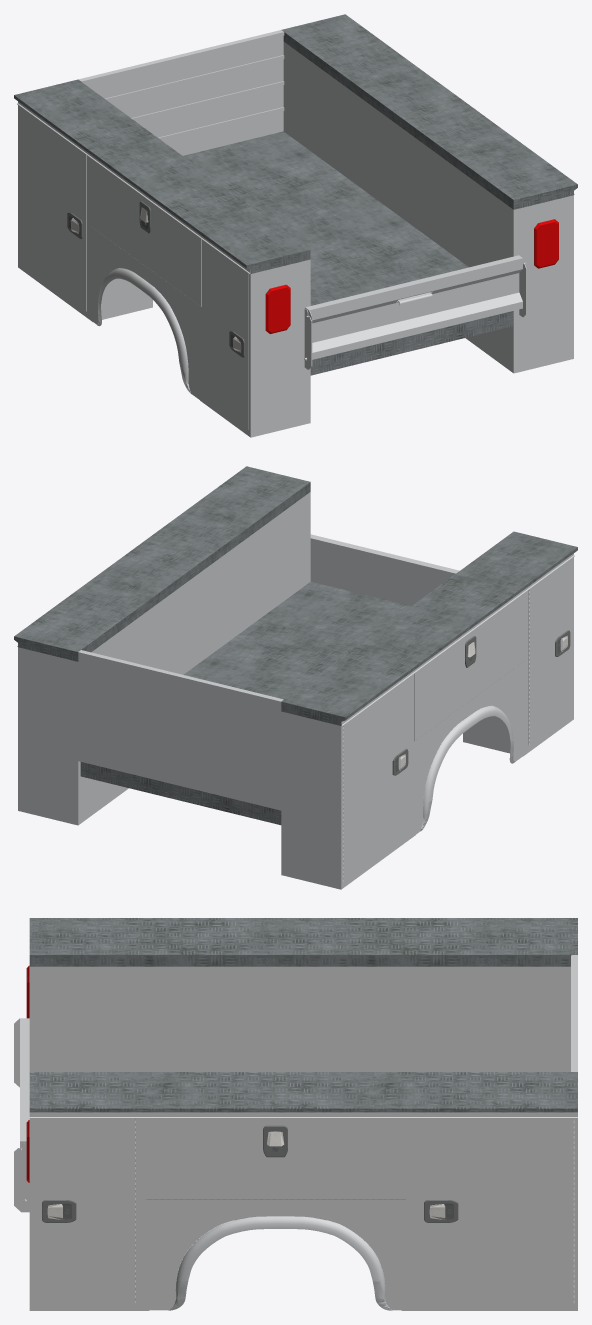
The model's file is RAM 2500HD CC 696j Body.glb.
3 views of the same model, one above another, from view 1: azimuth 30°, elevation 25°; view 2: azimuth 150°, elevation 25°; view 3: azimuth 270°, elevation 25° (orthographic). The views are drawn at different scales.
Parts seen in each view (by area): view 1: Geom3D_ (×16), Geom3D (×2); view 2: Geom3D_ (×14), Geom3D (×2); view 3: Geom3D (×5), Geom3D_ (×10).
Part boxes in pixels (bbox=[...]): Geom3D_ (×16): bbox=[14, 30, 574, 437]; Geom3D (×2): bbox=[281, 14, 577, 373]; Geom3D_ (×14): bbox=[17, 492, 577, 889]; Geom3D (×2): bbox=[14, 466, 310, 825]; Geom3D (×5): bbox=[14, 1072, 577, 1310]; Geom3D_ (×10): bbox=[20, 918, 577, 1310].
Size of the model in its own units: 2.03 by 1.02 by 2.54.
Materials: 9 (3 with a texture image).
